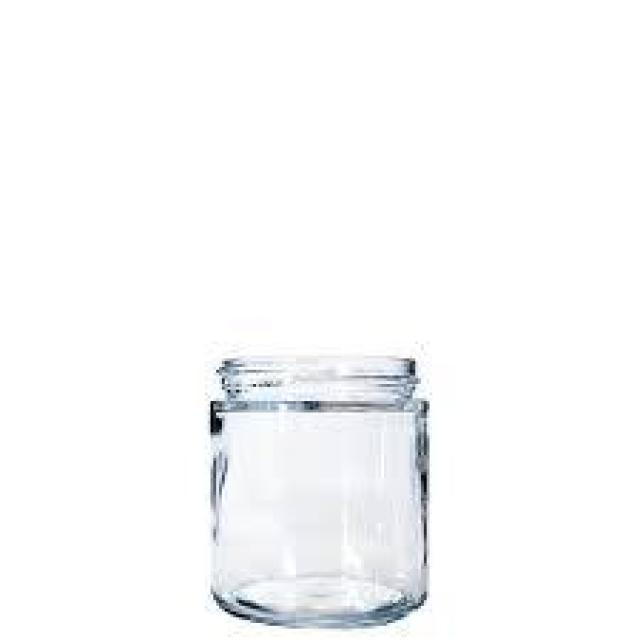Glass: (204, 350, 431, 632)
